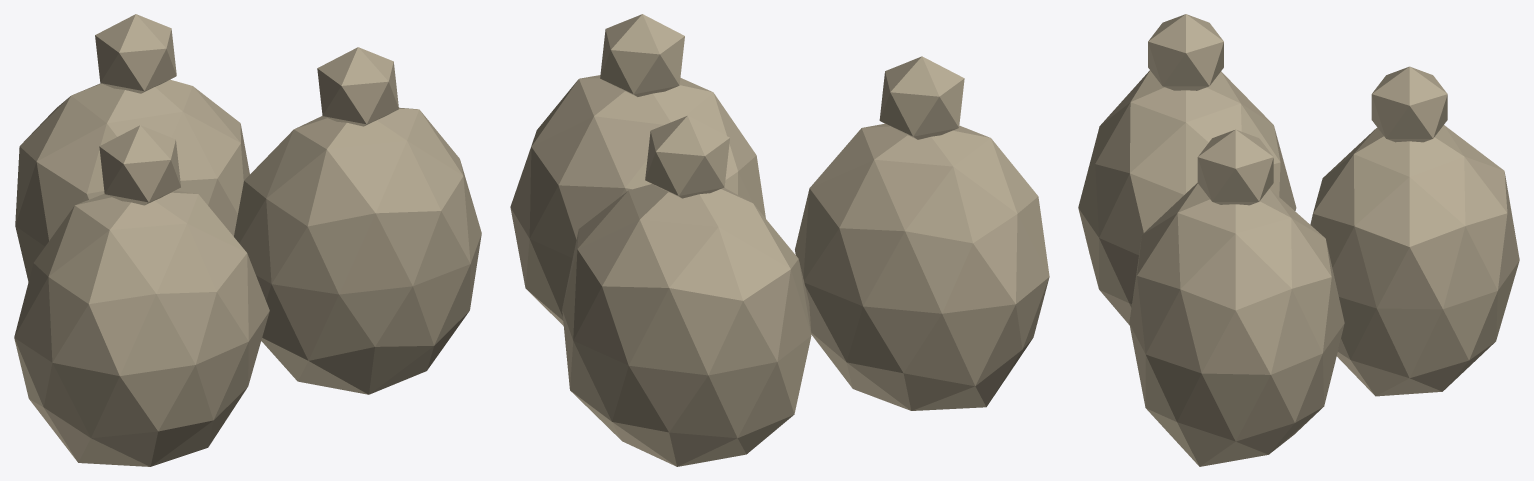
The model's file is grain_sacks.glb.
3 renders of one model, left to right at view 1: azimuth 30°, elevation 25°; view 2: azimuth 150°, elevation 25°; view 3: azimuth 270°, elevation 25°, orthographic. The views are drawn at different scales.
Parts seen in each view (by area): view 1: Grain_Sacks; view 2: Grain_Sacks; view 3: Grain_Sacks.
Boxes of the visible parts, <box> form: Grain_Sacks: <box>14,14,481,466</box>; Grain_Sacks: <box>510,14,1049,466</box>; Grain_Sacks: <box>1078,14,1519,466</box>.
Size of the model in its own units: 1.04 by 0.726 by 0.8886.
